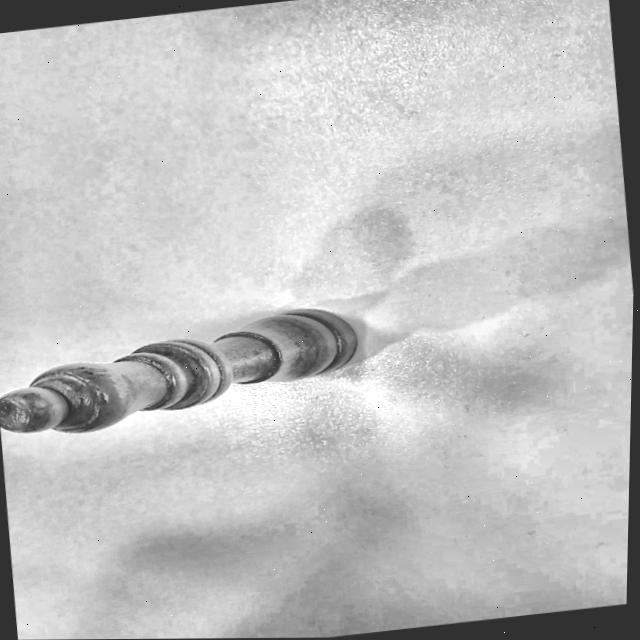black-queen: (0, 285, 387, 449)
